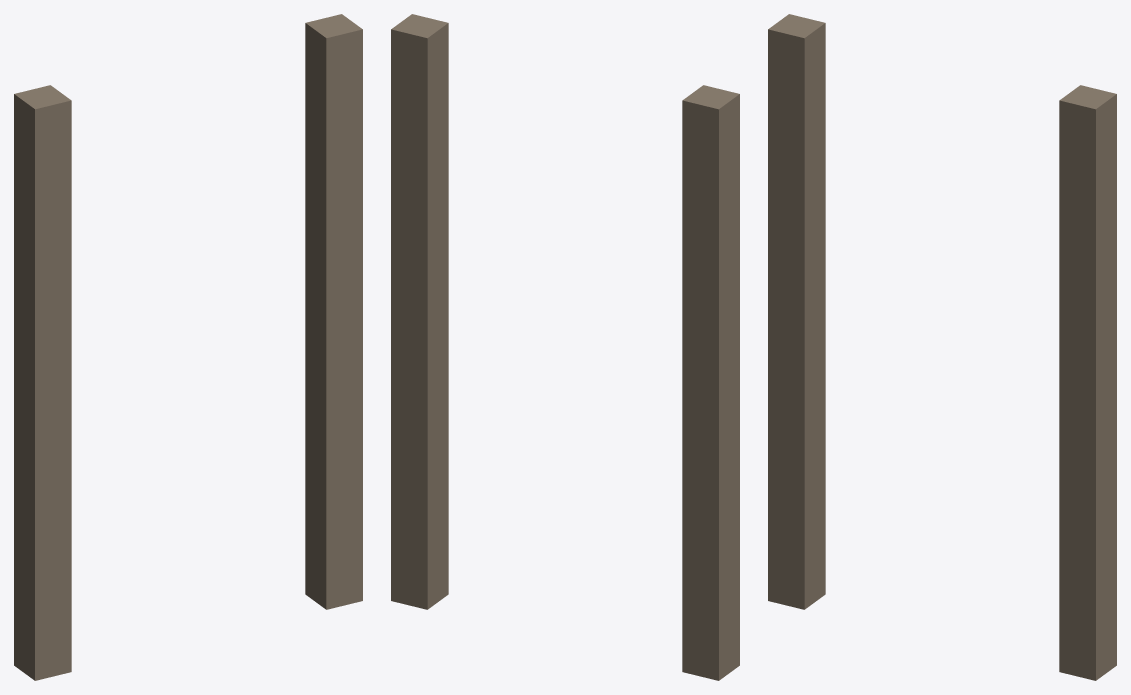
Rendered from support_beams.glb.
The picture shows the model from 3 angles, left to right: view 1: azimuth 30°, elevation 25°; view 2: azimuth 150°, elevation 25°; view 3: azimuth 330°, elevation 25°; orthographic projection.
Parts seen in each view (by area): view 1: geometry_0; view 2: geometry_0; view 3: geometry_0.
Boxes of the visible parts, <box> form: geometry_0: <box>14,14,362,680</box>; geometry_0: <box>391,14,739,680</box>; geometry_0: <box>768,14,1116,680</box>.
Bounding box in the file's own units: 0.9 × 1.5 × 0.1.
